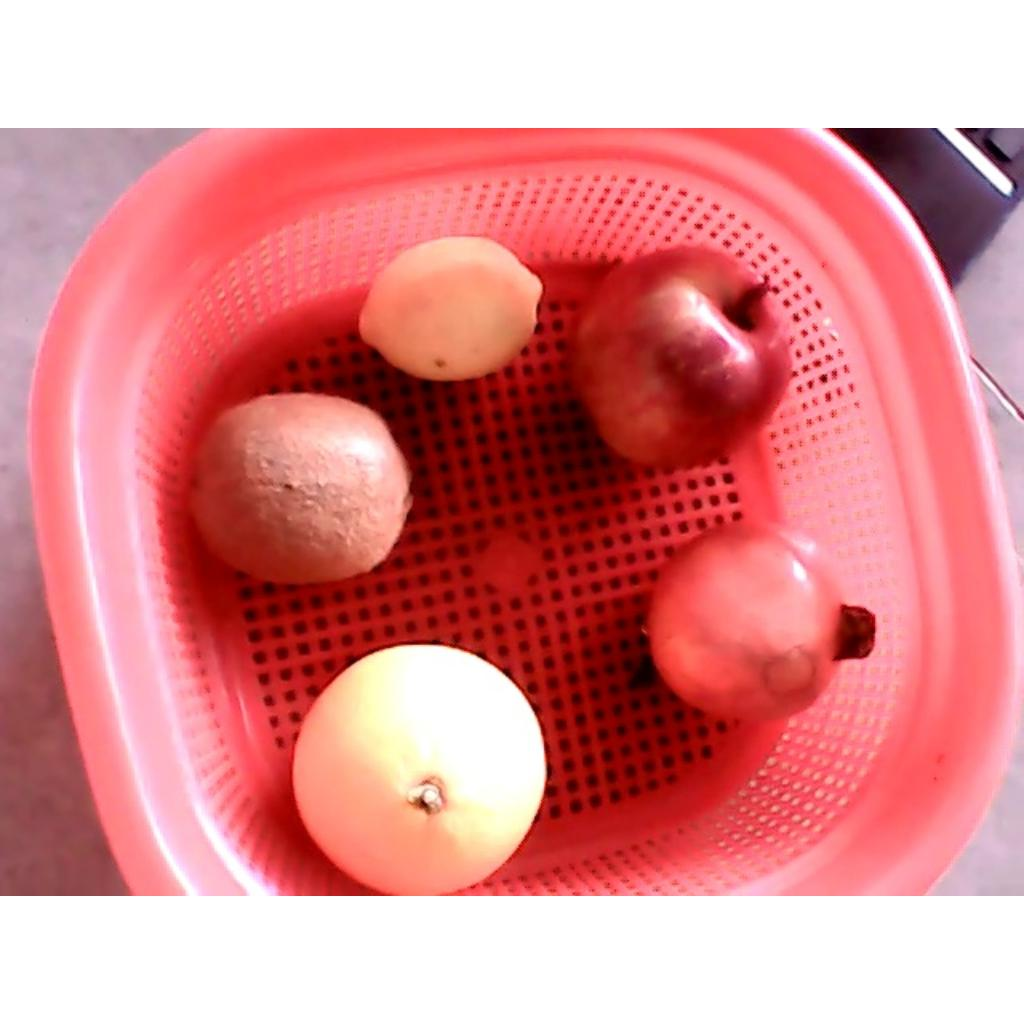apple: (563, 246, 798, 469)
kiwi: (186, 393, 414, 584)
lemon: (358, 235, 544, 383)
orange: (292, 644, 546, 894)
pomegranate: (644, 518, 878, 726)
